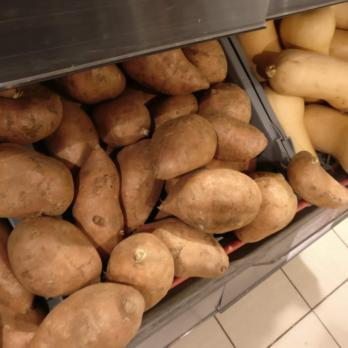Sweet potato: (0, 89, 142, 348), (134, 52, 232, 284), (244, 33, 348, 207), (161, 163, 299, 246)
